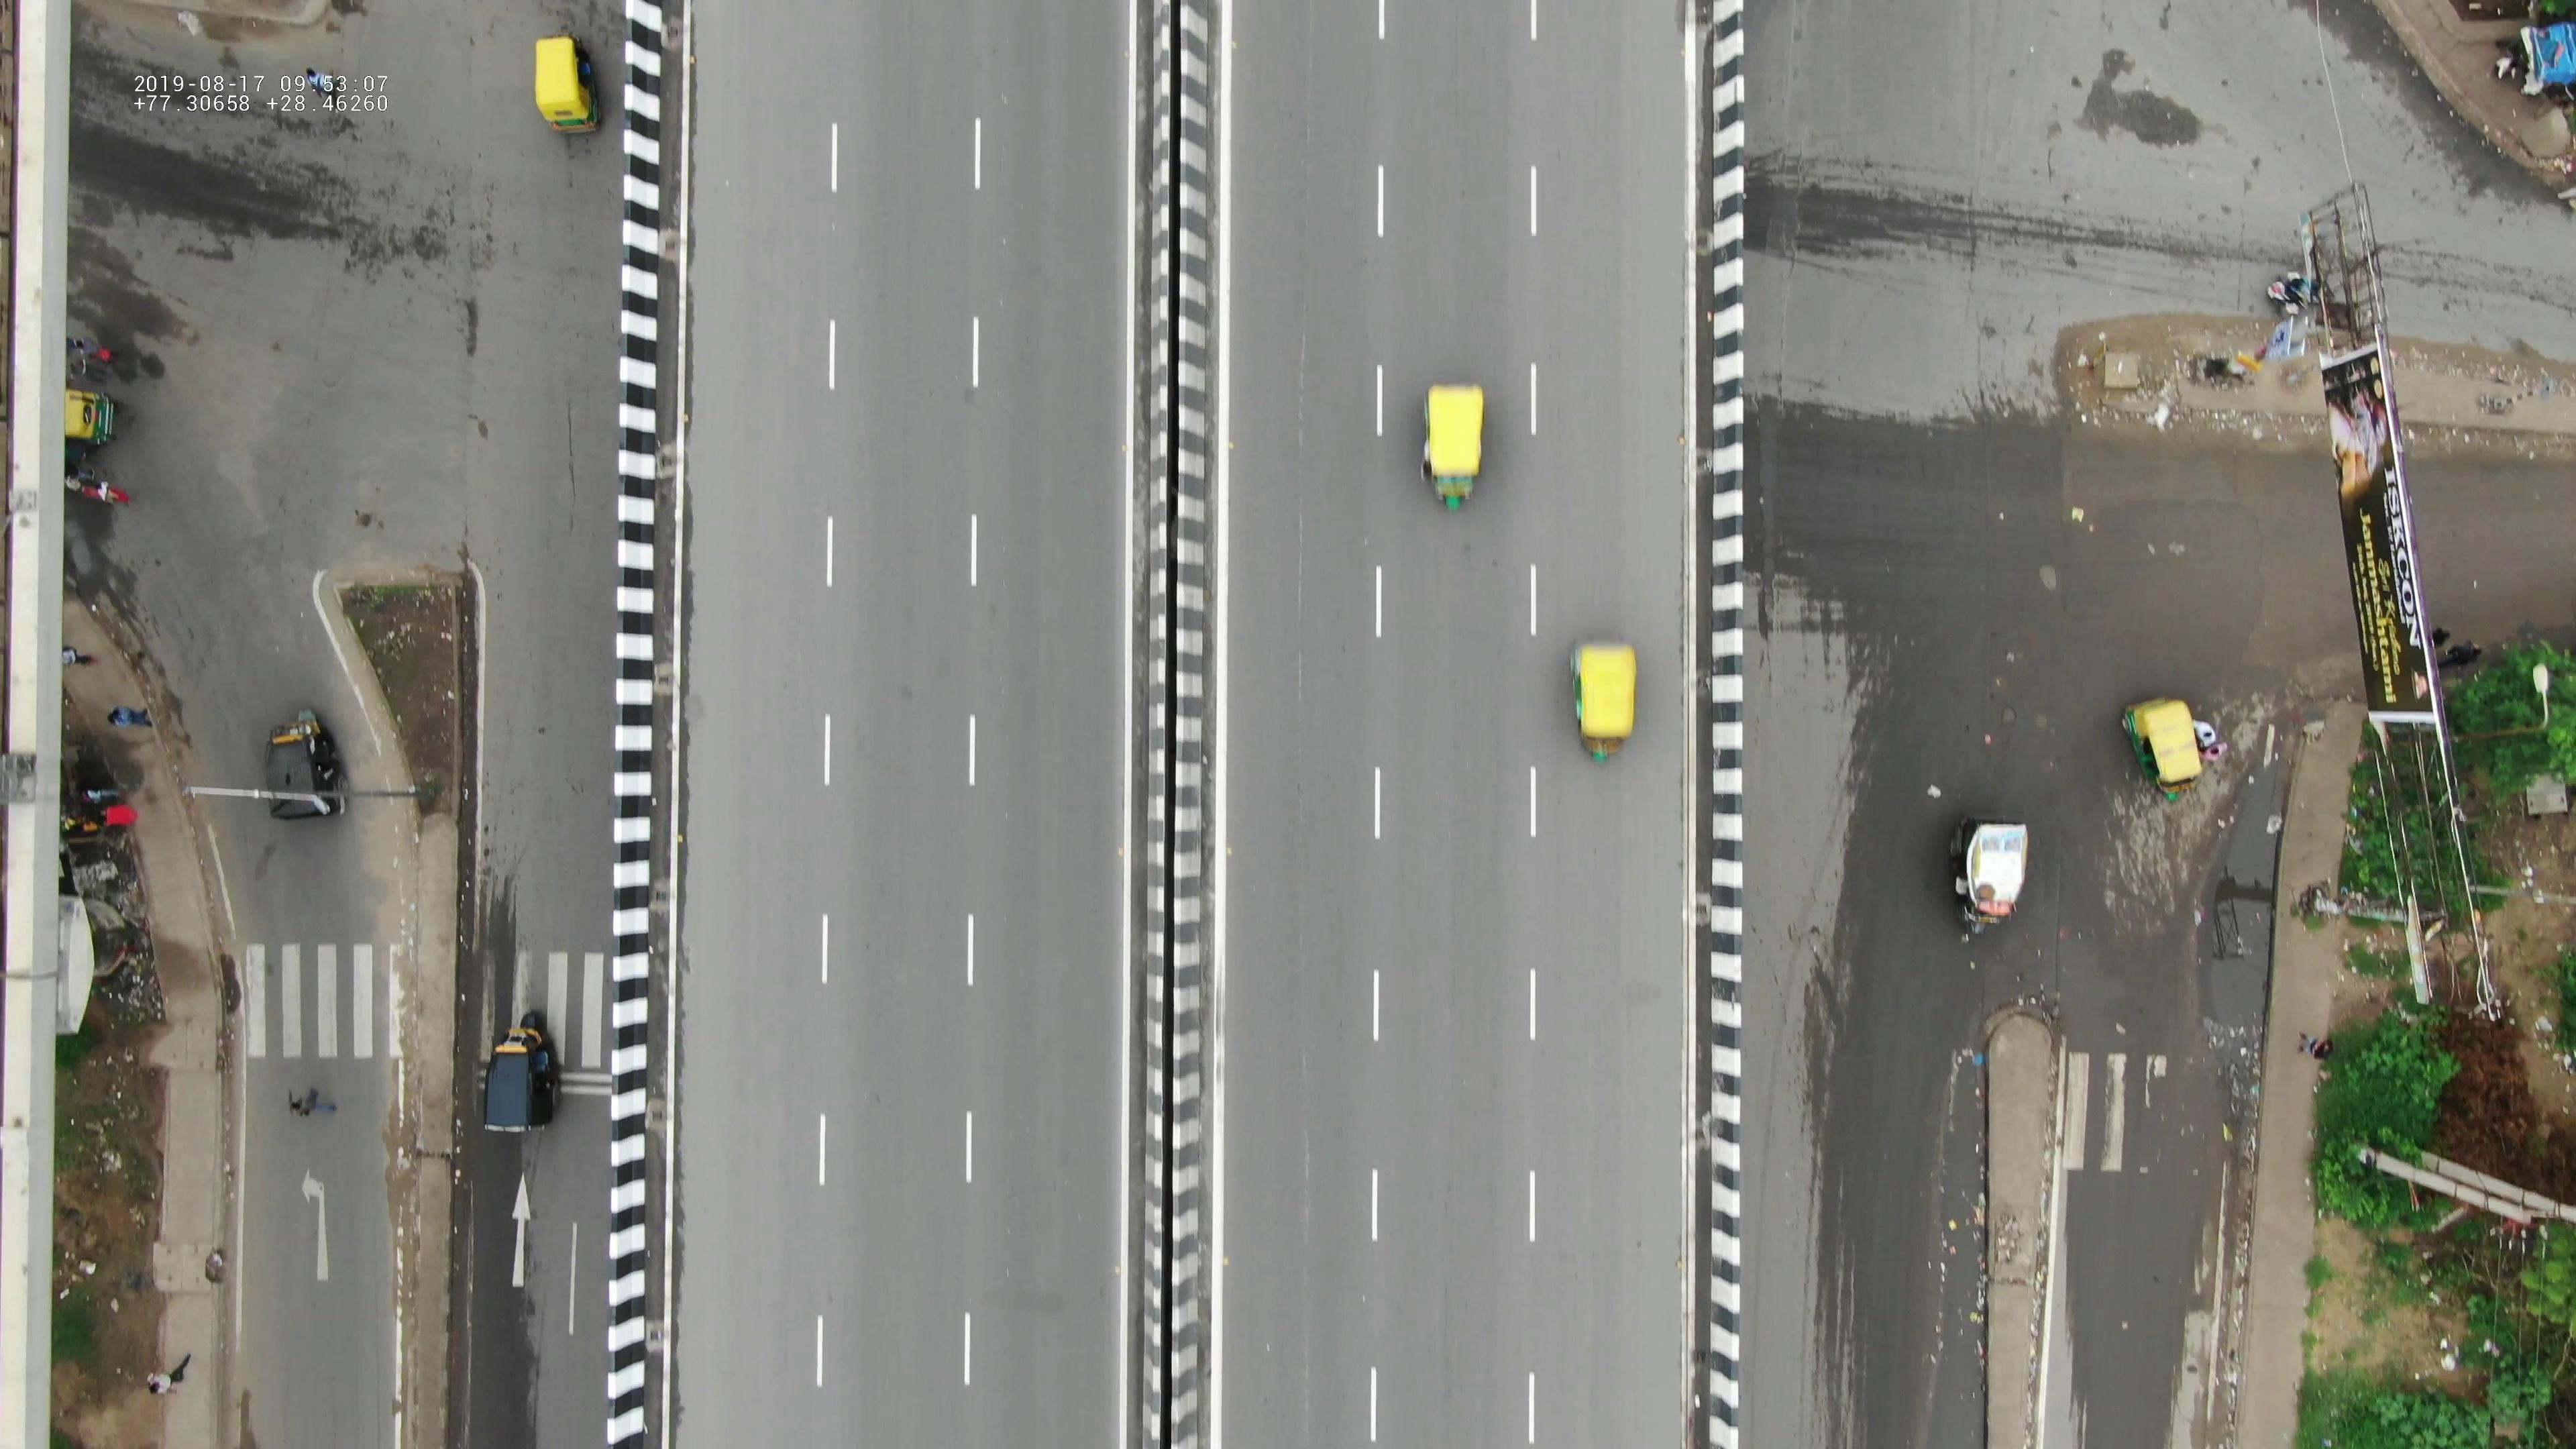Waterlogging: (2189, 835, 2281, 1033)
